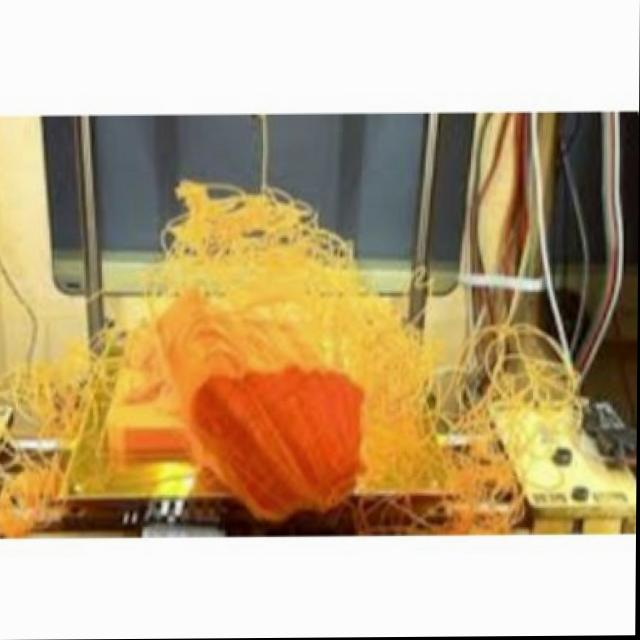spaghetti: (0, 171, 602, 541)
